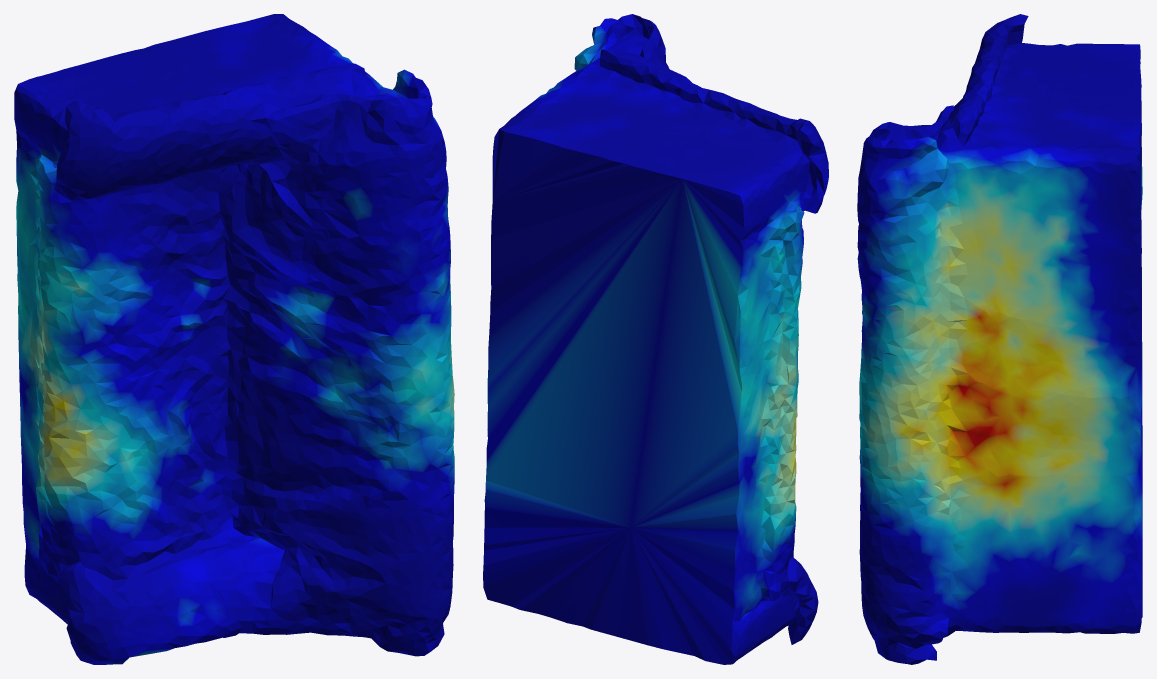
Rendered from sofa_error_poisson.glb.
3 views of the same model, side by side, from view 1: azimuth 30°, elevation 25°; view 2: azimuth 150°, elevation 25°; view 3: azimuth 270°, elevation 25° (orthographic). The views are drawn at different scales.
Visible parts, largest first — view 1: Sofa.obj; view 2: Sofa.obj; view 3: Sofa.obj.
Part boxes in pixels (<box>): Sofa.obj: <box>14,14,454,664</box>; Sofa.obj: <box>483,14,828,664</box>; Sofa.obj: <box>857,14,1142,664</box>.
Bounding box in the file's own units: 0.993 × 1.64 × 0.8105.
